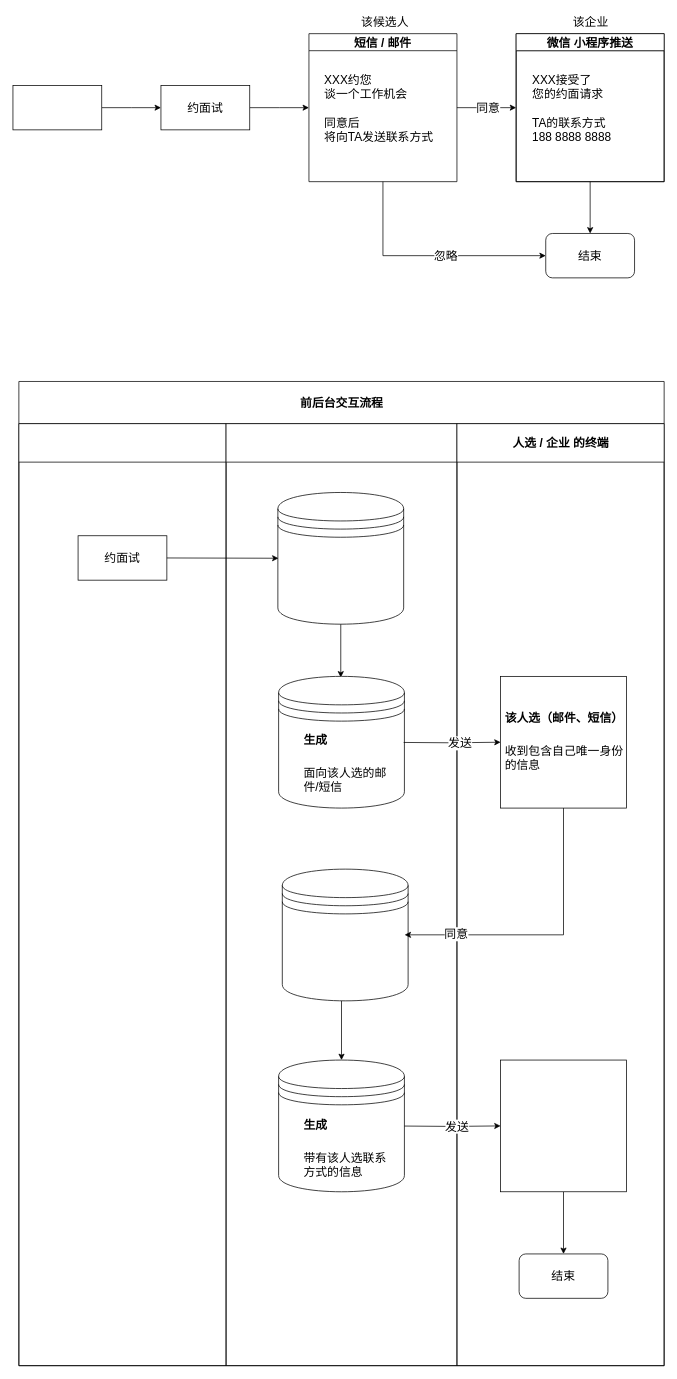
Some shapes in this 677 by 1379 pixel diagram are drawn without their labels. The box of each missing label's shape, as (x1, y1, x2, y2) in pixels:
企业查看简历: (12, 85, 102, 130)
后台: (225, 423, 457, 1366)
处理 1 谁发起请求 2 想谁请求: (277, 492, 404, 624)
处理 获取该人选的联系方式: (282, 868, 408, 1001)
小程序: (18, 423, 226, 1366)
该企业（微信推送） 收到带有该人选联系方式的信息: (500, 1059, 626, 1192)
